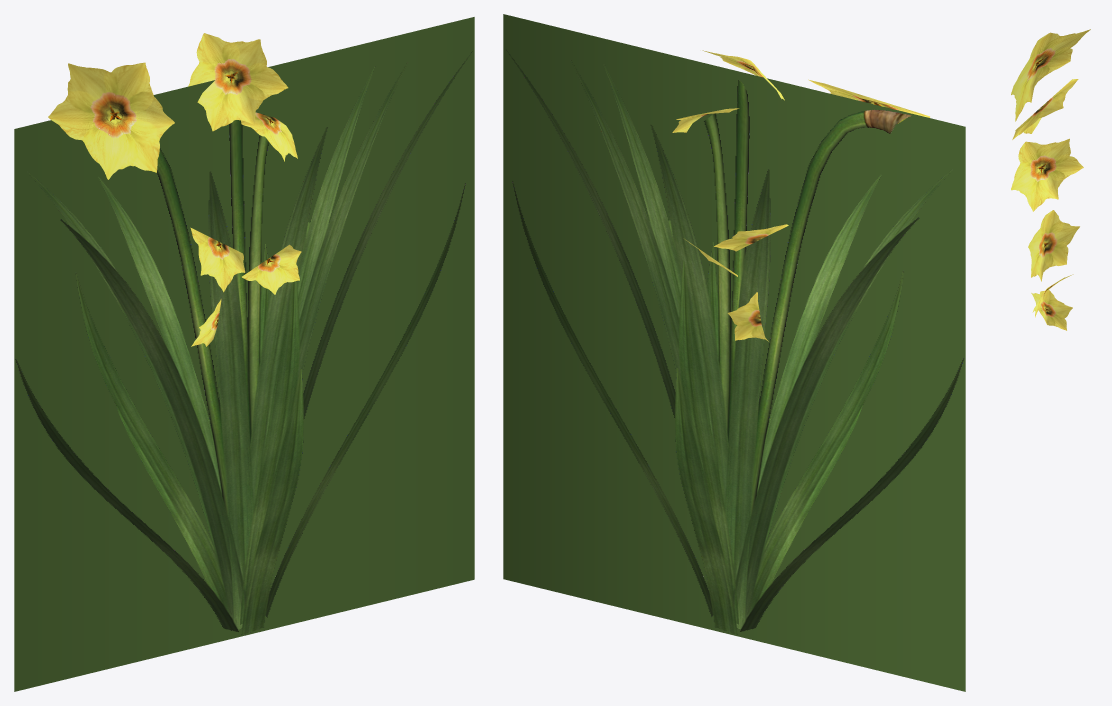
The model's file is narciso_amarillo.obj.
3 renders of one model, left to right at view 1: azimuth 30°, elevation 25°; view 2: azimuth 150°, elevation 25°; view 3: azimuth 270°, elevation 25°, orthographic. The views are drawn at different scales.
Parts seen in each view (by area): view 1: narciso_amarillo; view 2: narciso_amarillo; view 3: narciso_amarillo.
Boxes of the visible parts, box(x1,y1,x2,y2) form: narciso_amarillo: box(14, 17, 474, 691); narciso_amarillo: box(503, 14, 965, 691); narciso_amarillo: box(1011, 29, 1090, 330).
Size of the model in its own units: 0.3211 by 0.4 by 0.0733.
